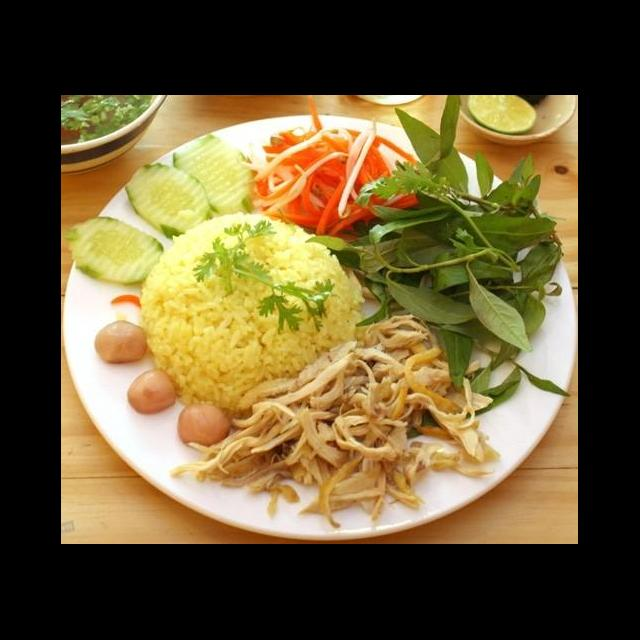com: (134, 208, 368, 418)
rau ram: (354, 101, 566, 392), (434, 292, 572, 424)
thit ga: (166, 310, 506, 534)
